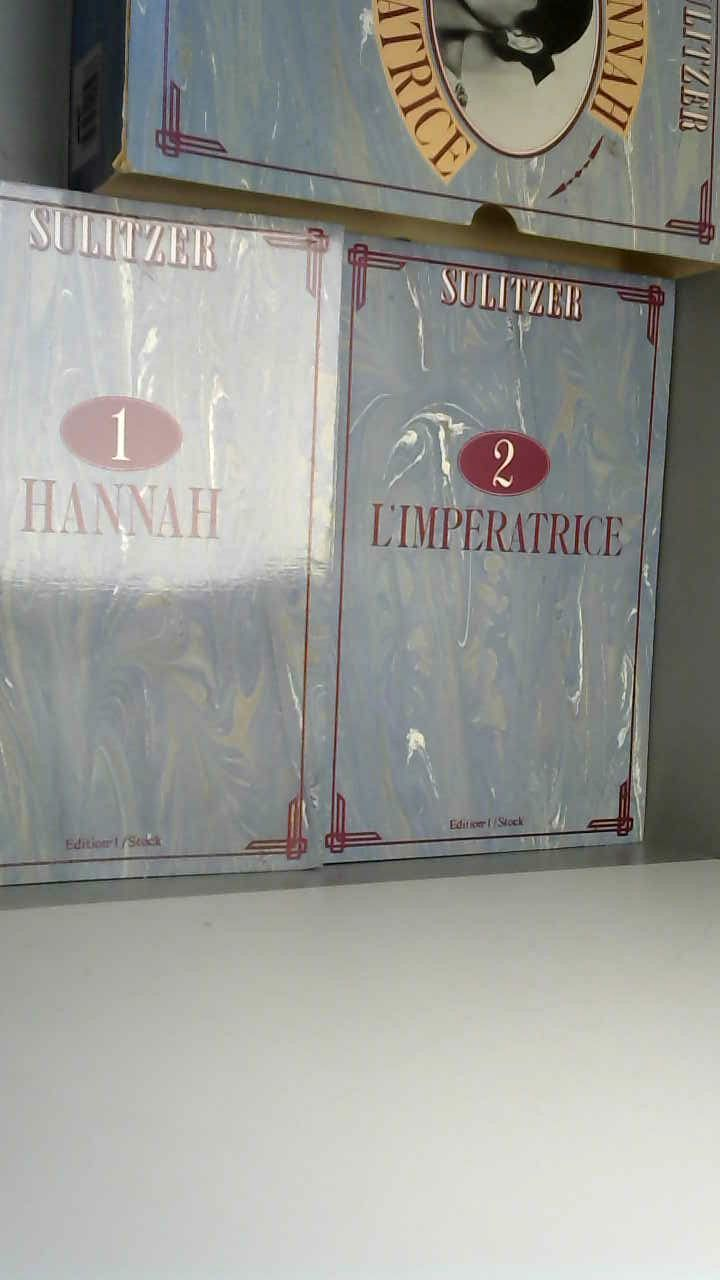book: (3, 0, 712, 918)
